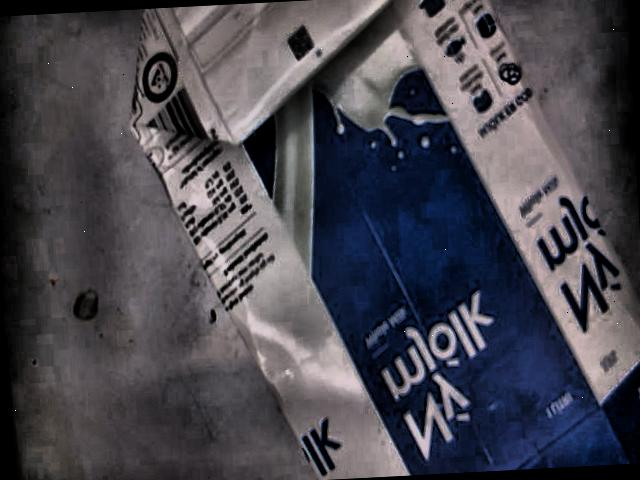Paper: (127, 0, 640, 480)
